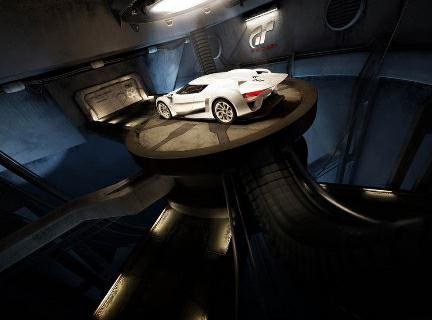雪铁龙-GT: (149, 63, 295, 128)
